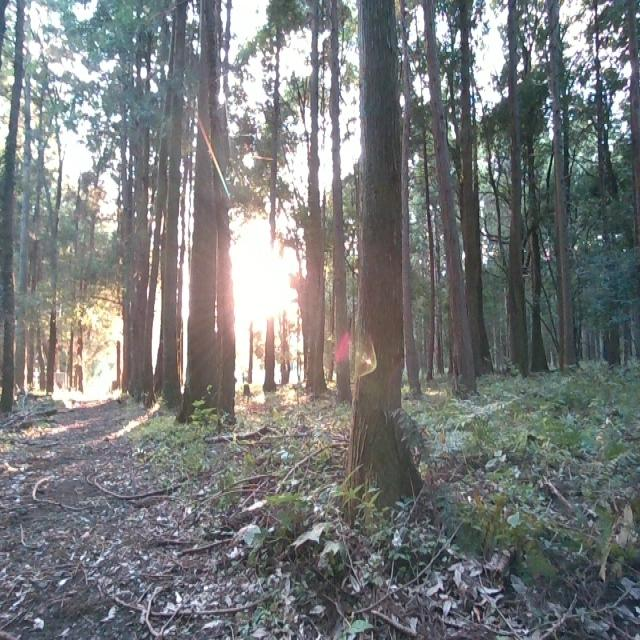tree: (338, 0, 424, 517), (427, 0, 487, 400), (183, 0, 235, 428), (504, 0, 548, 372), (120, 0, 153, 407), (549, 0, 585, 370), (300, 0, 332, 404), (154, 0, 181, 404), (0, 0, 26, 408), (594, 0, 619, 371), (262, 0, 280, 389), (43, 100, 60, 393)
